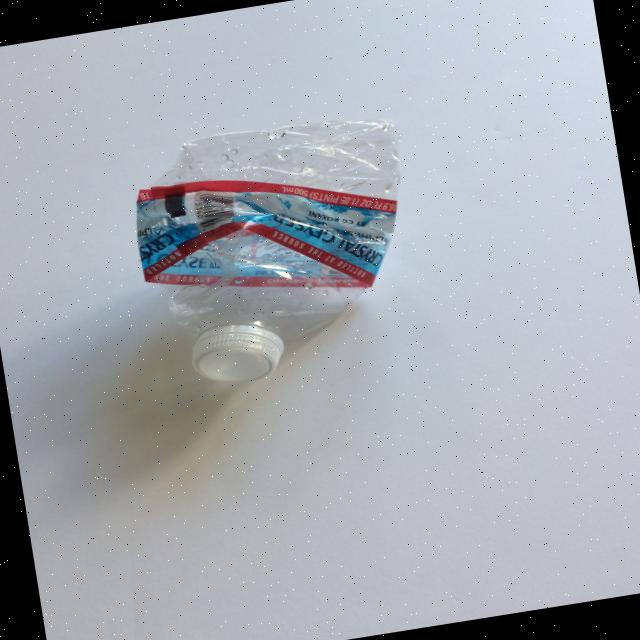plastic: (121, 105, 434, 395)
